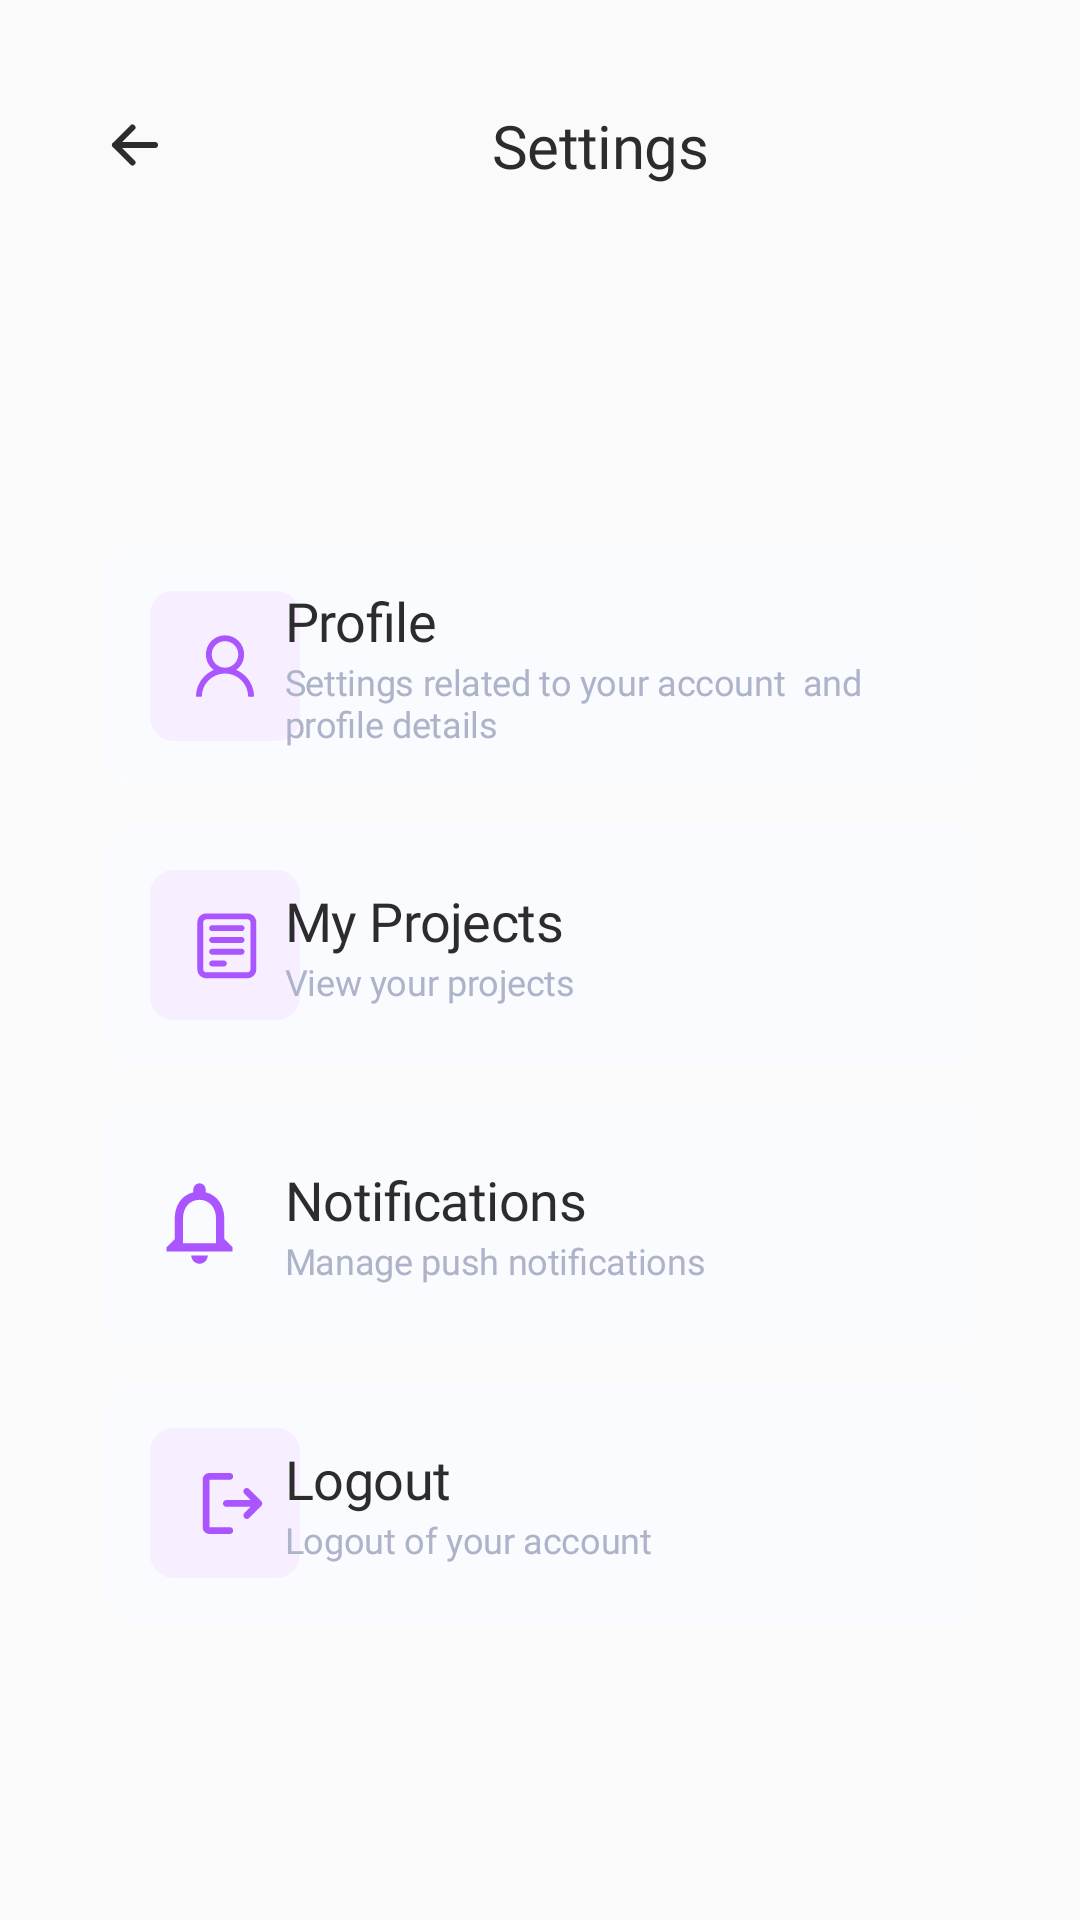

Icons on this 1080px×1920px Android screen, each with its box as (x1, y1, x2, y2):
navigation back: (112, 124, 158, 166)
